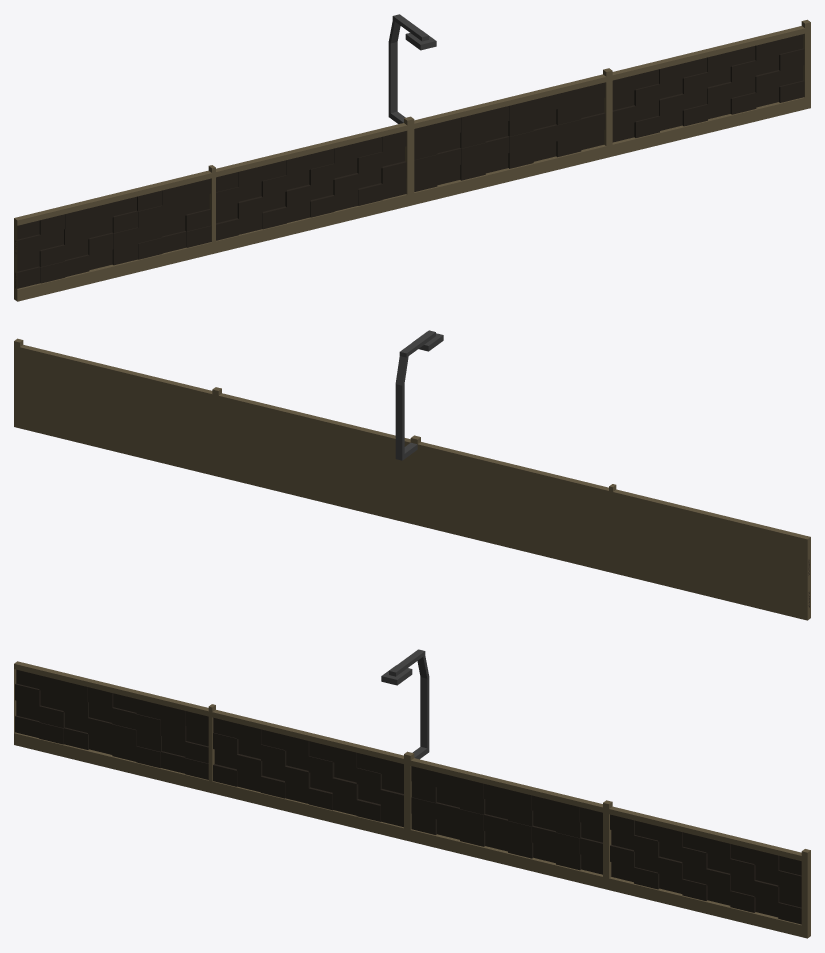
File: road_light_barrier.glb
3 renders of one model, top to bottom at view 1: azimuth 30°, elevation 25°; view 2: azimuth 150°, elevation 25°; view 3: azimuth 330°, elevation 25°, orthographic.
Visible parts, largest first — view 1: Cube, segment_4, segment_1, segment_3, segment_2, street_light; view 2: Cube, street_light; view 3: Cube, segment_4, segment_3, segment_2, segment_1, street_light.
Boxes of the visible parts, box(x1,y1,x2,y2) form: Cube: box(14, 19, 810, 301); segment_4: box(15, 178, 211, 288); segment_1: box(612, 34, 804, 142); segment_3: box(216, 131, 406, 240); segment_2: box(414, 82, 605, 191); street_light: box(388, 14, 436, 123); Cube: box(14, 338, 810, 620); street_light: box(395, 330, 443, 460); Cube: box(14, 661, 810, 938); segment_4: box(15, 669, 208, 779); segment_3: box(213, 717, 403, 827); segment_2: box(411, 766, 602, 874); segment_1: box(610, 814, 801, 924); street_light: box(381, 649, 429, 759).
Bounding box in the file's own units: 100 × 21.69 × 7.98.
